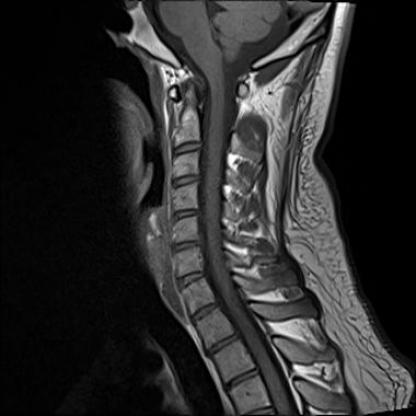Disc Bulgerotation: (171, 236, 201, 254)
